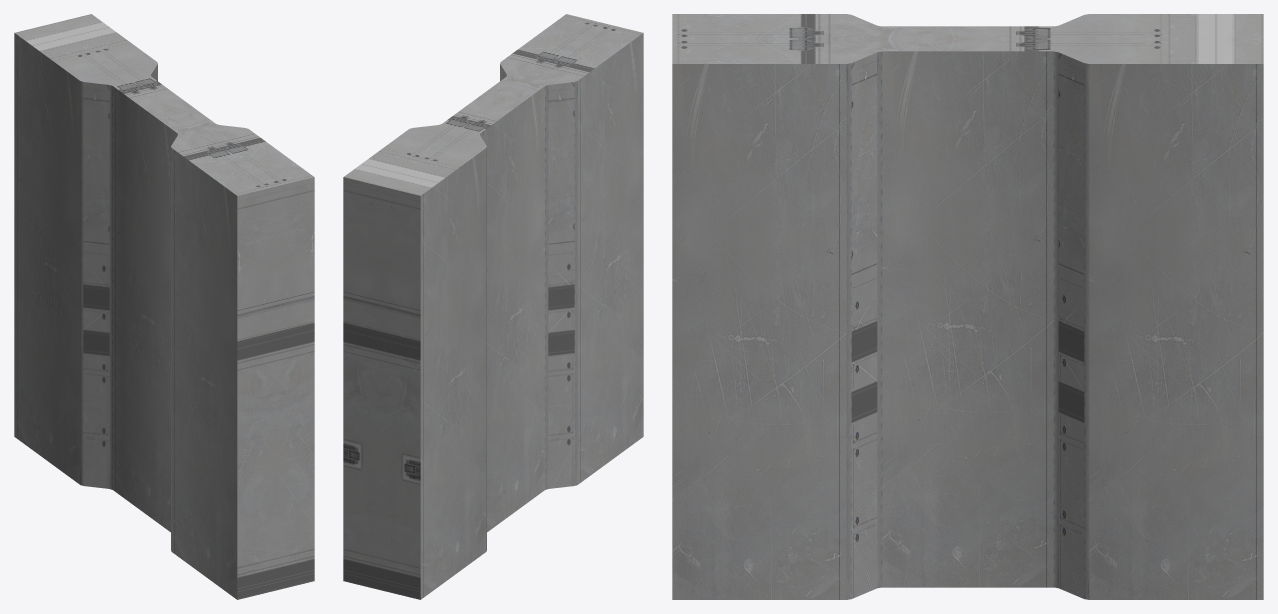
File: SM_WallS013b3.fbx
3 renders of one model, left to right at view 1: azimuth 30°, elevation 25°; view 2: azimuth 150°, elevation 25°; view 3: azimuth 270°, elevation 25°, orthographic. The views are drawn at different scales.
Parts seen in each view (by area): view 1: SM_WallS013b3_LOD0; view 2: SM_WallS013b3_LOD0; view 3: SM_WallS013b3_LOD0.
Part boxes in pixels (bbox=[...]): SM_WallS013b3_LOD0: bbox=[14, 14, 314, 599]; SM_WallS013b3_LOD0: bbox=[343, 14, 643, 599]; SM_WallS013b3_LOD0: bbox=[672, 14, 1263, 599].
Size of the model in its own units: 80 by 400 by 400.
2 materials, 2 textured.
